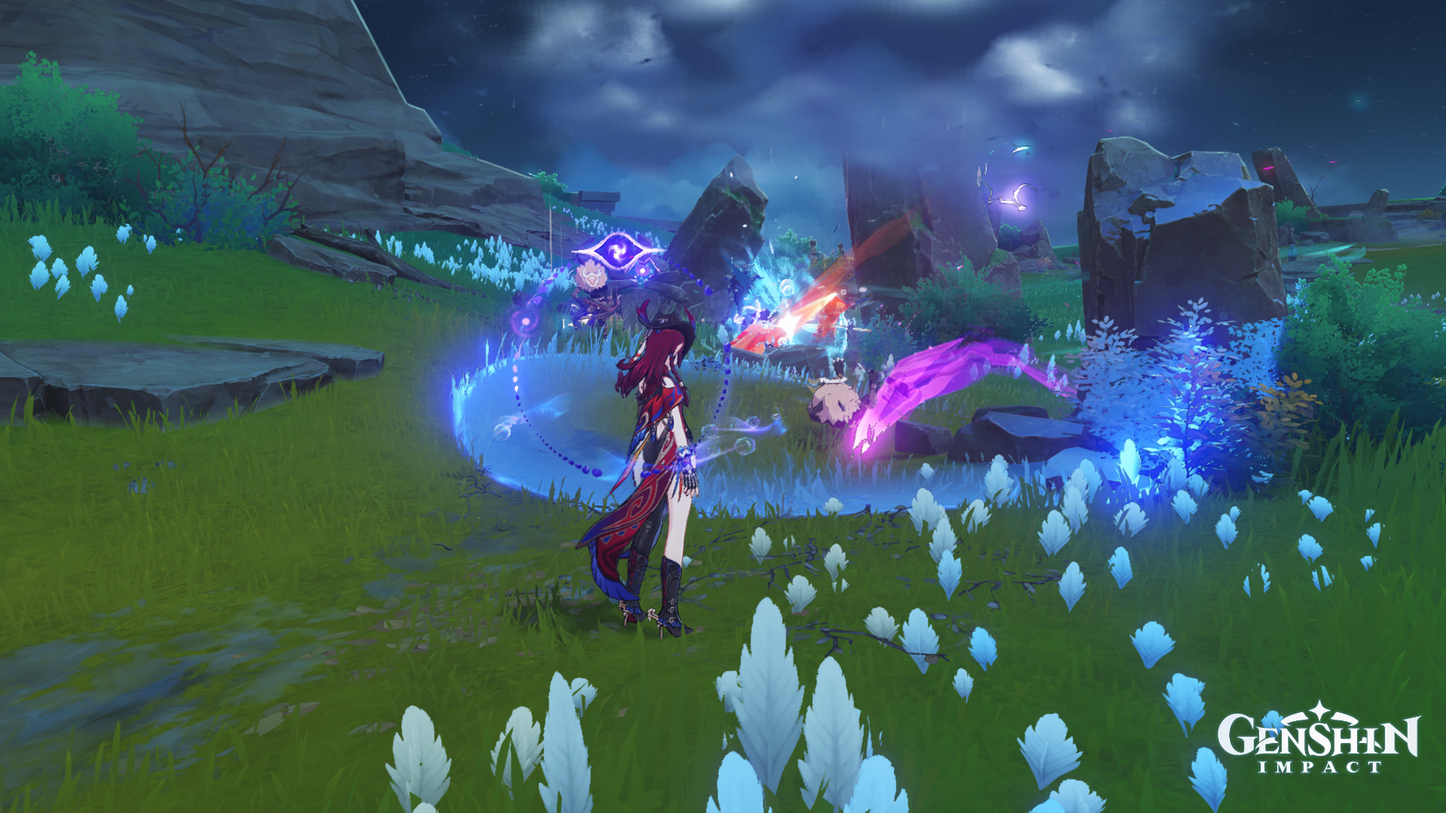Human: (600, 309, 705, 630)
Monster: (560, 260, 620, 338), (810, 363, 877, 432)
